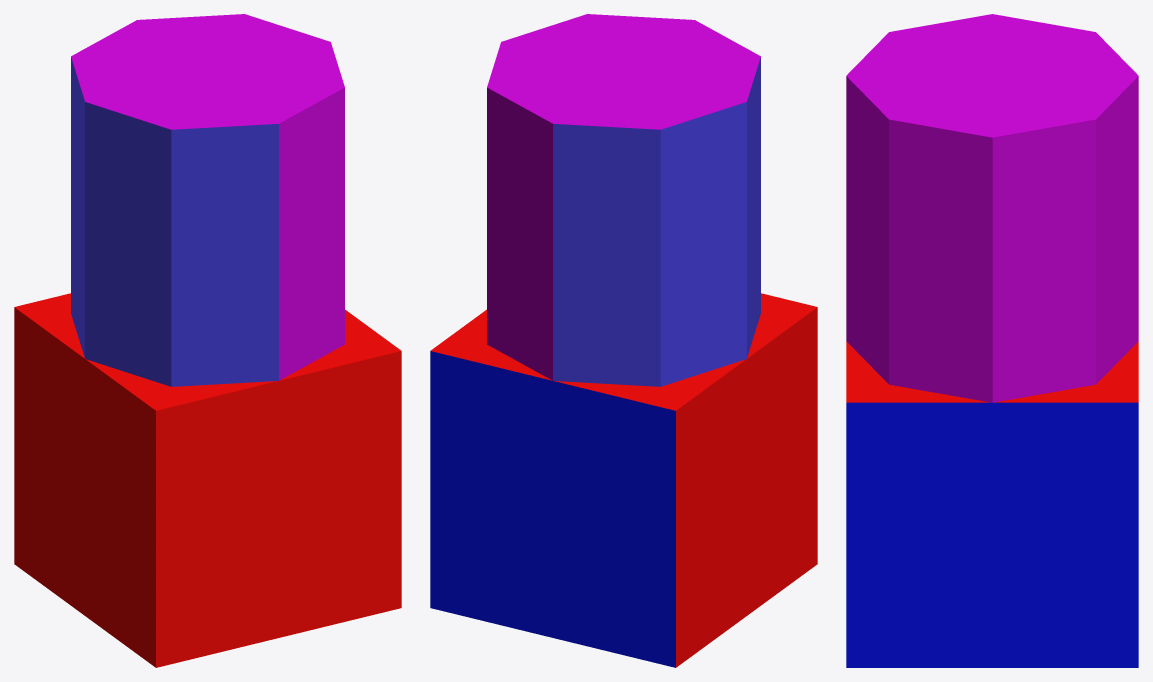
3 views of the same model, side by side, from view 1: azimuth 30°, elevation 25°; view 2: azimuth 150°, elevation 25°; view 3: azimuth 270°, elevation 25° (orthographic). The views are drawn at different scales.
Parts seen in each view (by area): view 1: Box, Cylinder; view 2: Box, Cylinder; view 3: Cylinder, Box.
Boxes of the visible parts, x1,y1,x2,y2 form: Box: [14, 293, 401, 667]; Cylinder: [71, 14, 344, 386]; Box: [430, 293, 817, 667]; Cylinder: [487, 14, 760, 386]; Cylinder: [846, 14, 1138, 402]; Box: [846, 341, 1138, 667].
Size of the model in its own units: 200 by 400 by 200.
